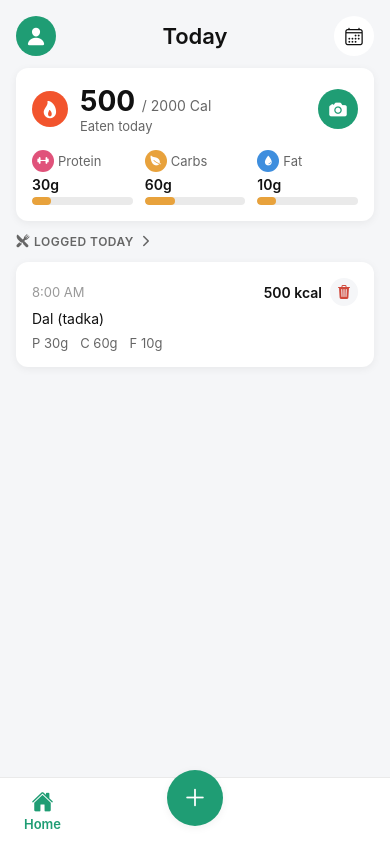
Test: DashboardScreen › deletes the meal and refreshes the summary when confirmed
Expected: the element with test id "meal-row-m1" is shown, [16,262,374,367]
Click the element with test id "meal-card-delete-button": (344, 292) [330,278,358,306]
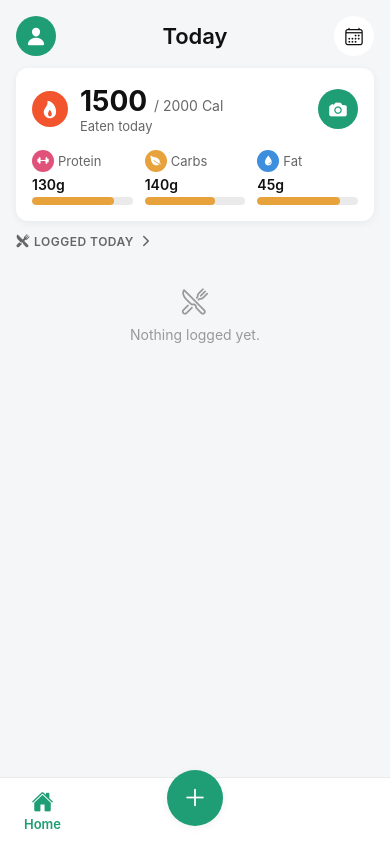
Now the element with test id "meal-row-m1" is gone
Now the element with test id "no-meals-text" is shown, box [130,287,260,343]
